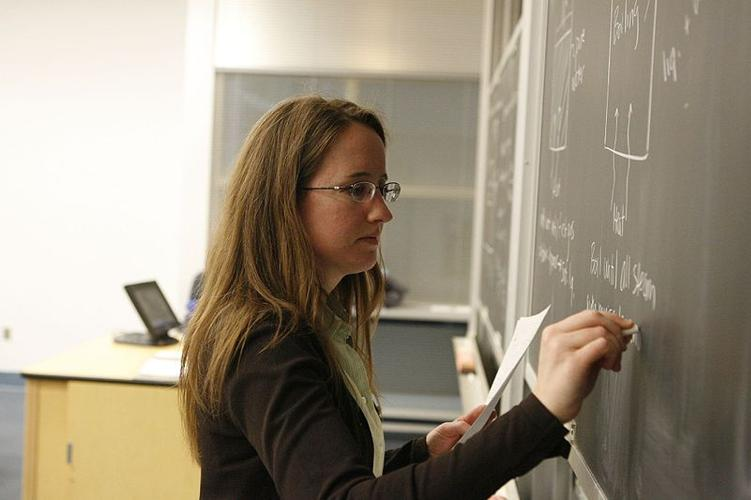person: (179, 93, 628, 500)
